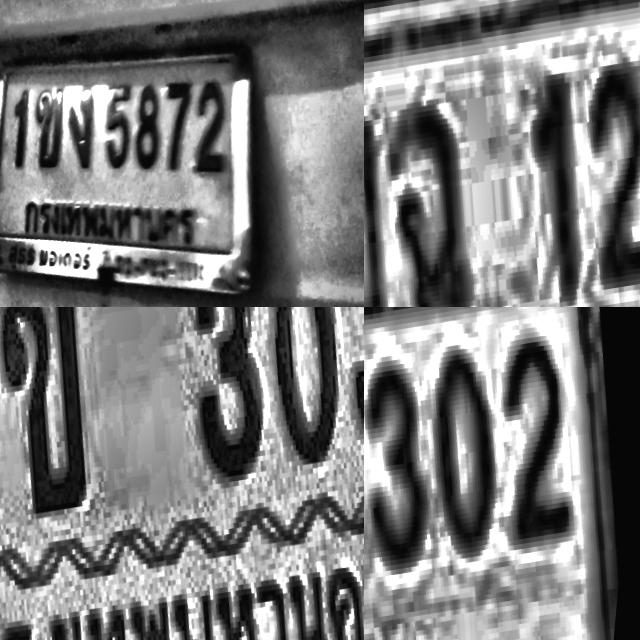license-plate: (0, 307, 364, 640), (364, 307, 640, 640), (364, 0, 640, 307), (0, 58, 240, 256)
